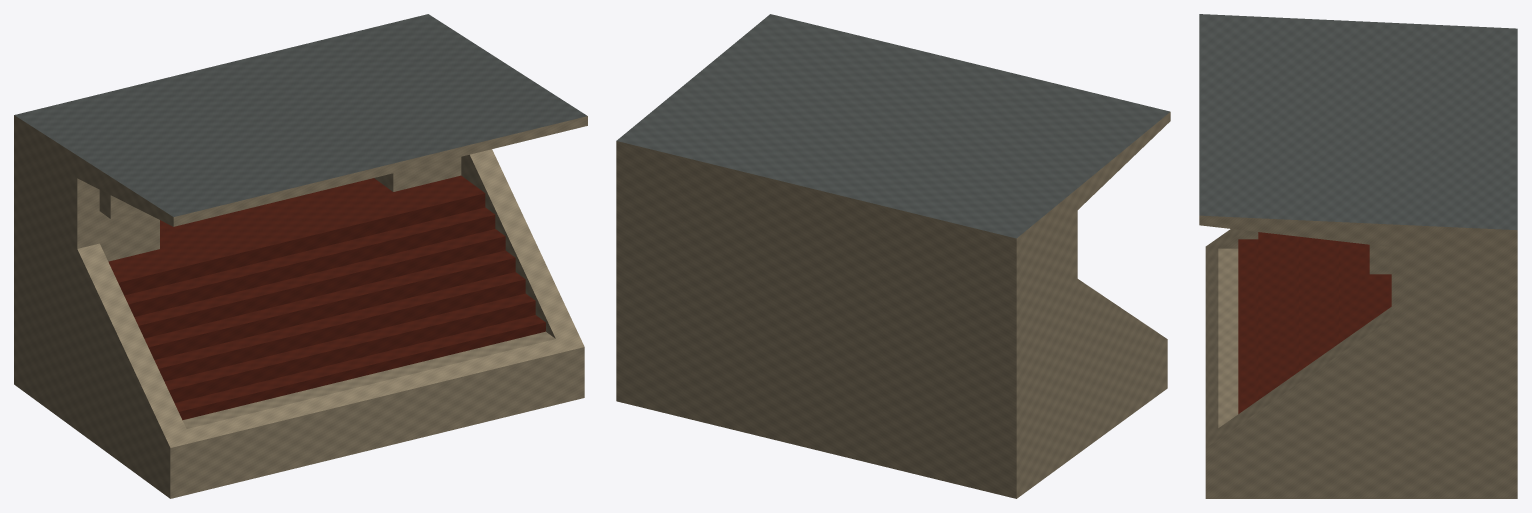
Rendered from grandstand-lod.glb.
The picture shows the model from 3 angles, left to right: view 1: azimuth 30°, elevation 25°; view 2: azimuth 150°, elevation 25°; view 3: azimuth 270°, elevation 25°; orthographic projection. The views are drawn at different scales.
Visible parts, largest first — view 1: grandstand-grandStandCovered(Clone); view 2: grandstand-grandStandCovered(Clone); view 3: grandstand-grandStandCovered(Clone).
Boxes of the visible parts, x1,y1,x2,y2 form: grandstand-grandStandCovered(Clone): (14,14,587,498); grandstand-grandStandCovered(Clone): (616,14,1170,498); grandstand-grandStandCovered(Clone): (1199,14,1517,498).
Size of the model in its own units: 12 by 7.86 by 8.
3 materials, 3 textured.
